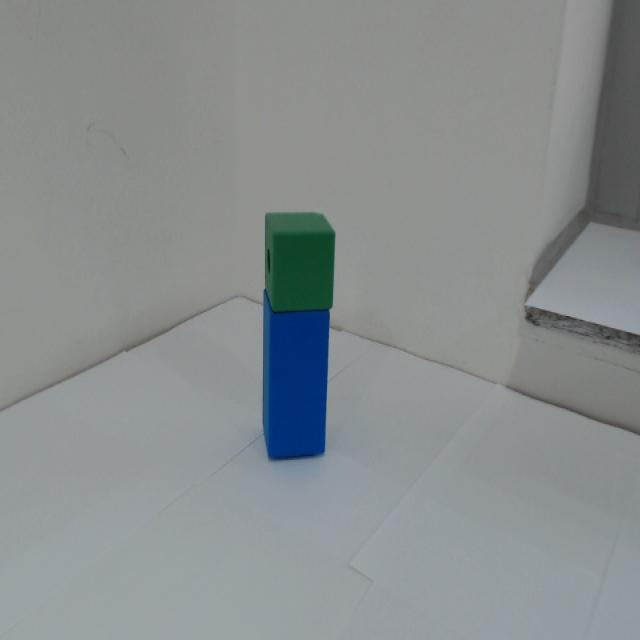cube: (260, 209, 339, 313)
